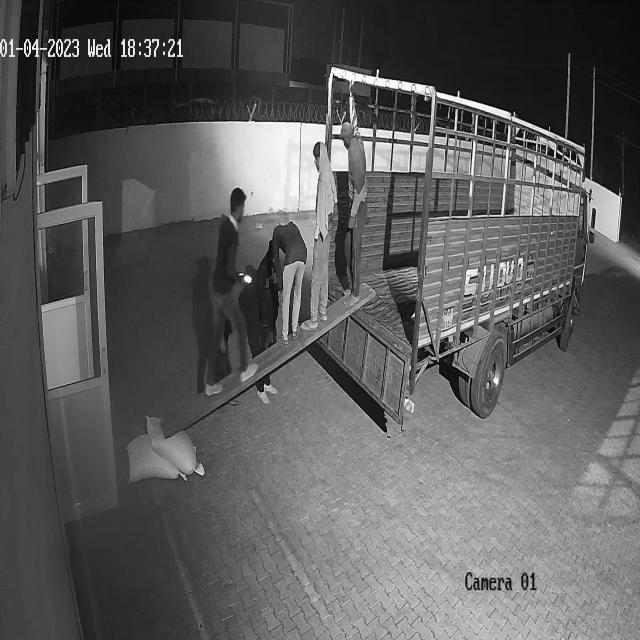sack: (145, 413, 204, 476), (126, 434, 187, 482)
